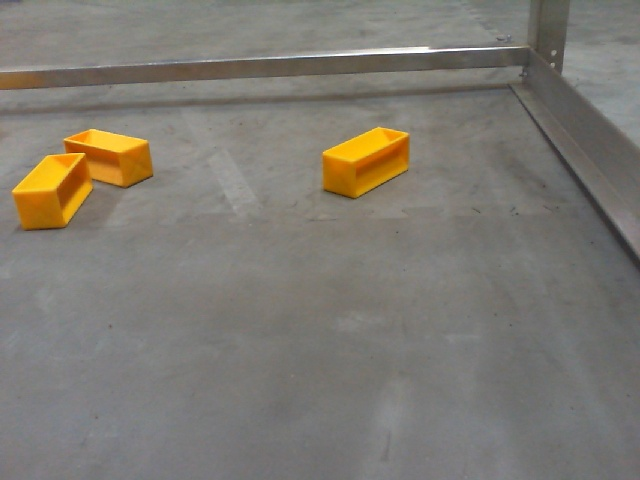YellowSample: (10, 150, 94, 237), (319, 125, 414, 201), (63, 127, 158, 189)
